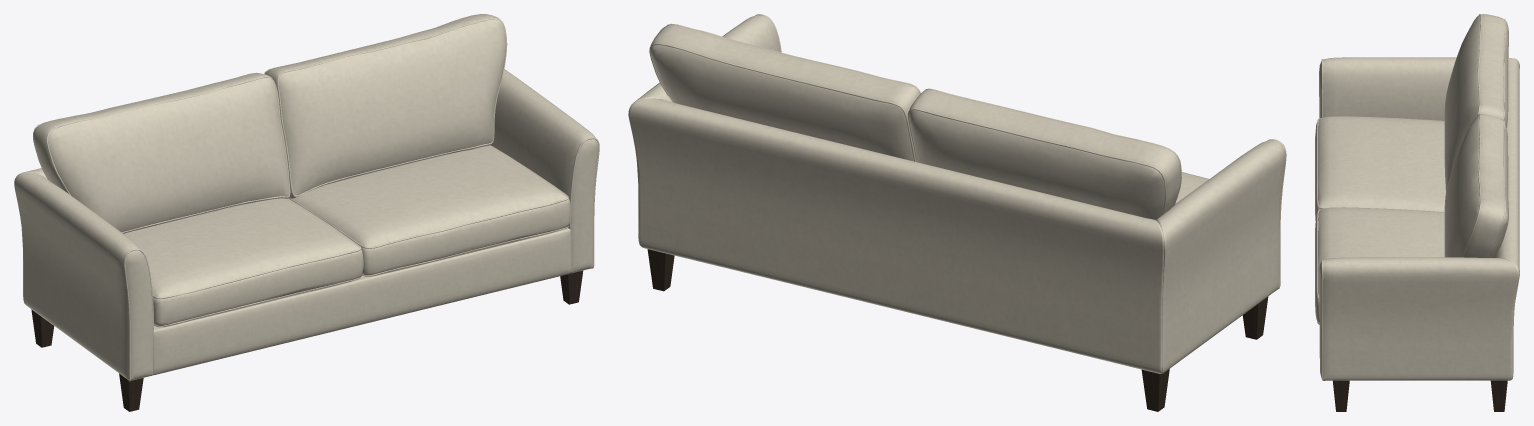
Rendered from ekholma_sofa_3_osobowa_09535597.glb.
3 views of the same model, side by side, from view 1: azimuth 30°, elevation 25°; view 2: azimuth 150°, elevation 25°; view 3: azimuth 270°, elevation 25° (orthographic). The views are drawn at different scales.
Visible parts, largest first — view 1: ekholma_sofa_3_osobowa_09535597; view 2: ekholma_sofa_3_osobowa_09535597; view 3: ekholma_sofa_3_osobowa_09535597.
Part boxes in pixels (x1,y1,x2,y2): ekholma_sofa_3_osobowa_09535597: [14, 14, 599, 411]; ekholma_sofa_3_osobowa_09535597: [628, 14, 1286, 411]; ekholma_sofa_3_osobowa_09535597: [1315, 14, 1519, 411].
Bounding box in the file's own units: 2.07 × 0.9399 × 0.8497.
1 material, 1 textured.
